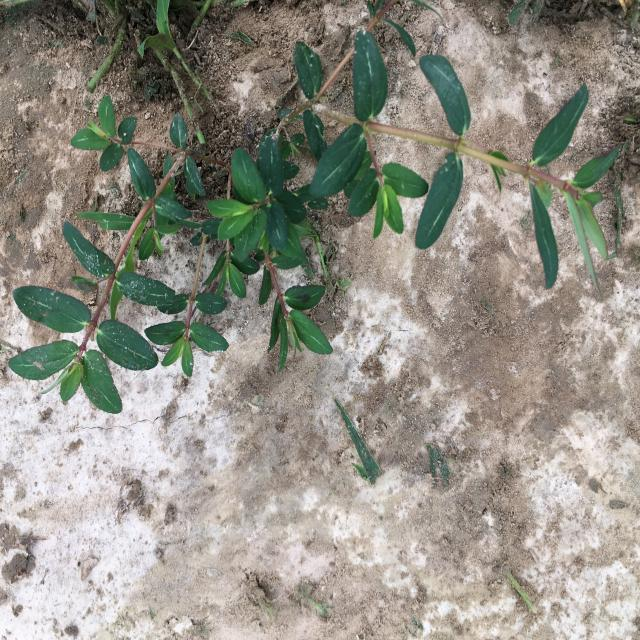SpottedSpurge: (7, 1, 623, 414)
